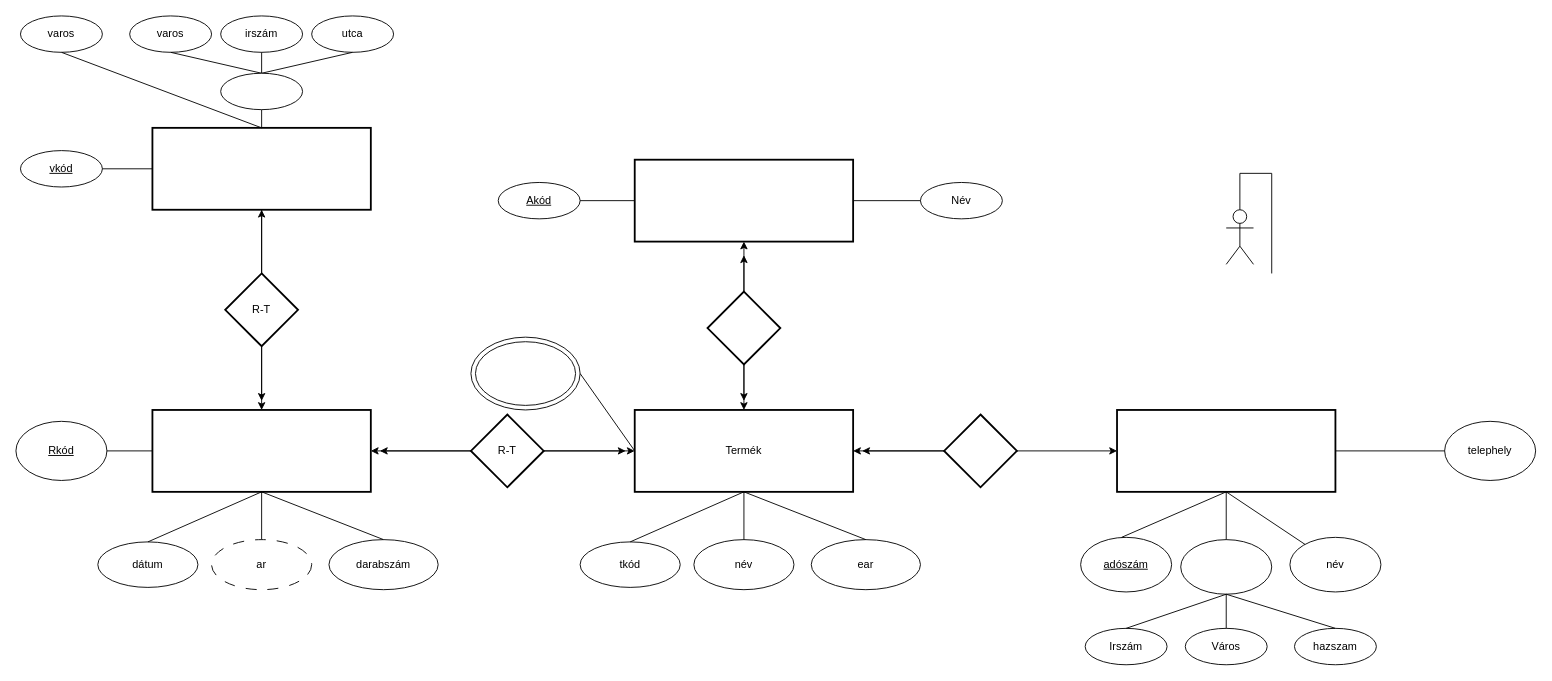
This 1552x681 diagram has some shape labels left out. The centre of each missing label's shape, as x and y in pixels:
"Alkatrész" goes at point 743,200.
"Egység_db" goes at point 525,373.
"gyártó" goes at point 1226,450.
"Lakcím" goes at point 261,91.
"Postacím" goes at point 1226,566.
"Rendelés" goes at point 261,450.
"T-GY" goes at point 980,450.
"T_A" goes at point 743,327.
"Vevő" goes at point 261,168.
"Én" goes at point 1239,236.
